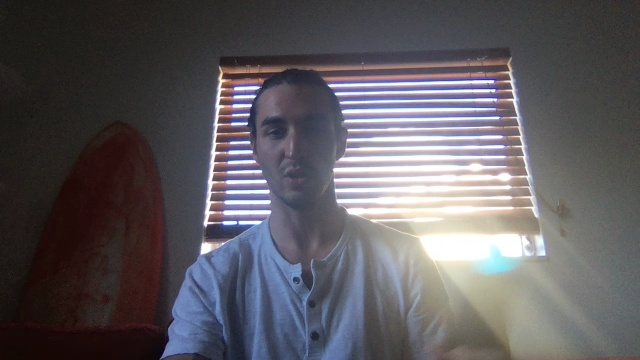wand: (479, 236, 521, 272)
